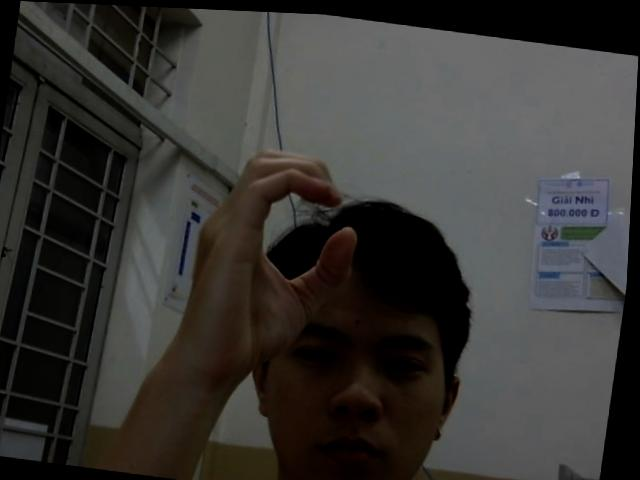C: (179, 135, 368, 391)
